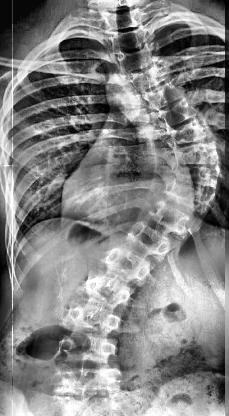Vertebrae: (126, 216, 178, 264), (60, 298, 126, 334), (144, 197, 202, 237), (57, 331, 121, 367), (78, 268, 132, 308), (160, 180, 216, 218), (102, 242, 152, 284), (156, 94, 202, 130), (166, 113, 215, 146), (112, 42, 160, 74), (140, 80, 188, 112), (168, 162, 222, 188), (126, 64, 174, 92), (172, 139, 220, 167), (104, 24, 151, 52)
